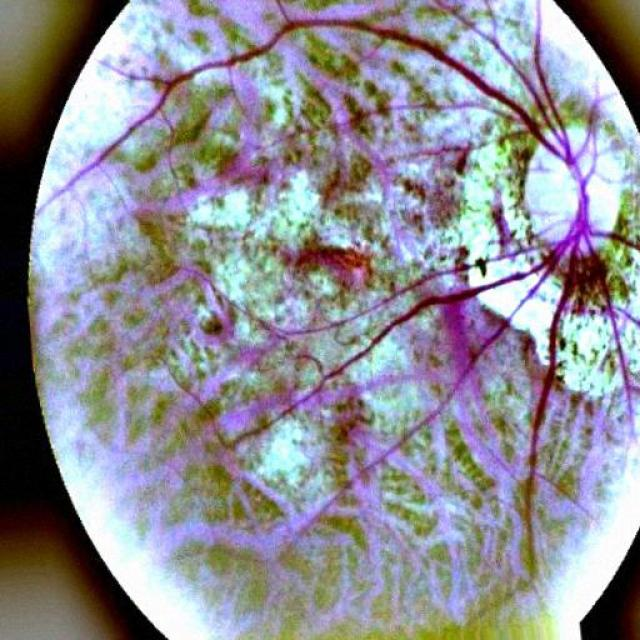Macula: (267, 233, 381, 293)
Nerves: (249, 17, 556, 154), (318, 234, 575, 382), (535, 244, 578, 416)
Optic Disk: (525, 146, 578, 241), (590, 158, 619, 229), (573, 129, 611, 176)
